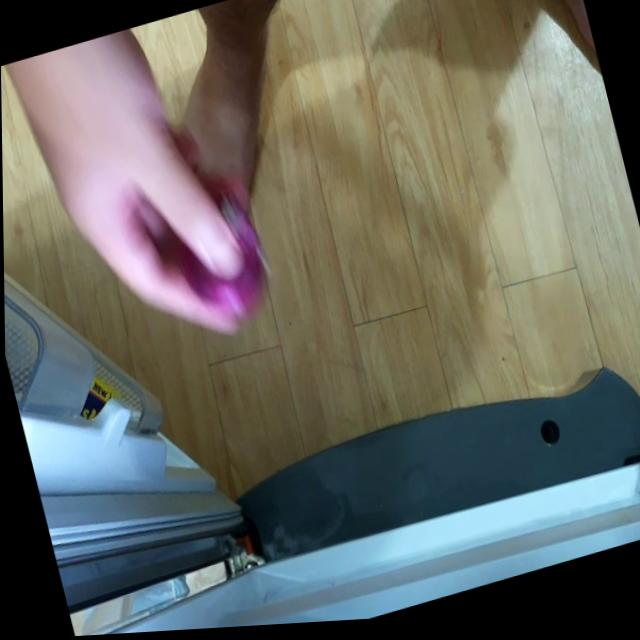onion: (166, 183, 272, 344)
